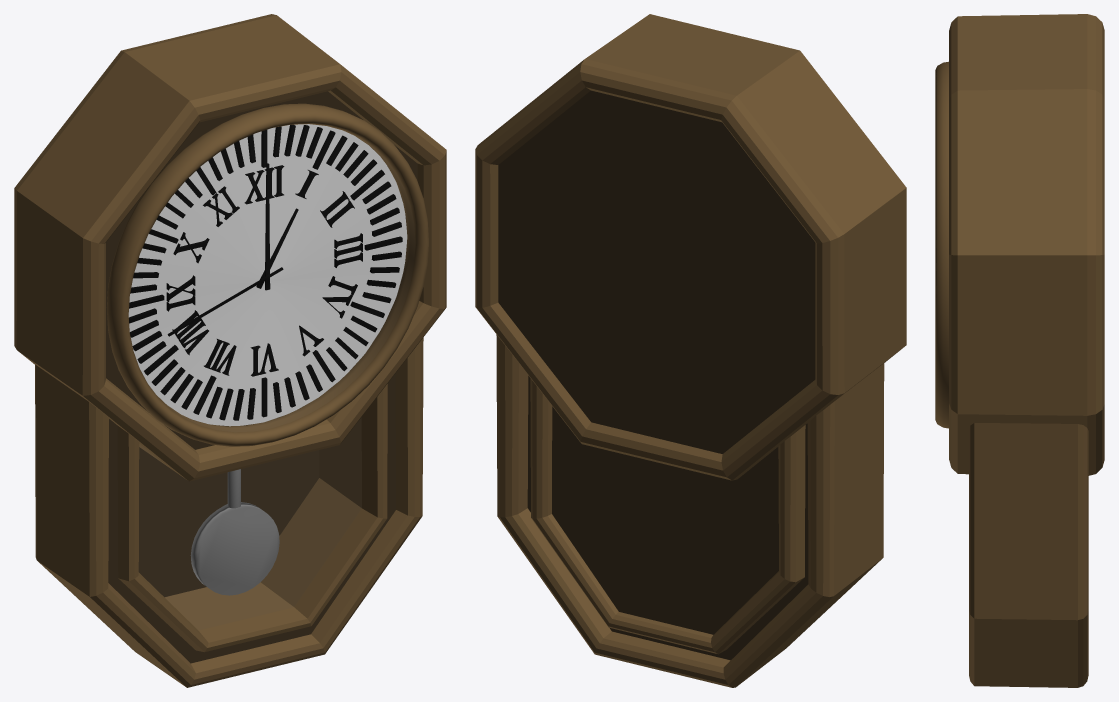
File: 諏訪ノ森時計.glb
3 renders of one model, left to right at view 1: azimuth 30°, elevation 25°; view 2: azimuth 150°, elevation 25°; view 3: azimuth 270°, elevation 25°, orthographic.
Parts seen in each view (by area): view 1: トーラス.003, トーラス.002, 円, トーラス.001, テキスト, 円柱, テキスト.001; view 2: トーラス.002, トーラス.003; view 3: トーラス.002, トーラス.003, トーラス.001.
Part boxes in pixels (x1,y1,x2,y2): トーラス.003: (35, 337, 423, 687); トーラス.002: (14, 14, 446, 481); 円: (128, 124, 407, 426); トーラス.001: (107, 103, 428, 446); テキスト: (129, 124, 402, 420); 円柱: (190, 469, 279, 595); テキスト.001: (129, 130, 401, 416); トーラス.002: (475, 14, 906, 480); トーラス.003: (496, 334, 884, 687); トーラス.002: (949, 14, 1104, 475); トーラス.003: (969, 423, 1088, 687); トーラス.001: (935, 61, 948, 428).
Size of the model in its own units: 8.93 by 13.88 by 3.54.
